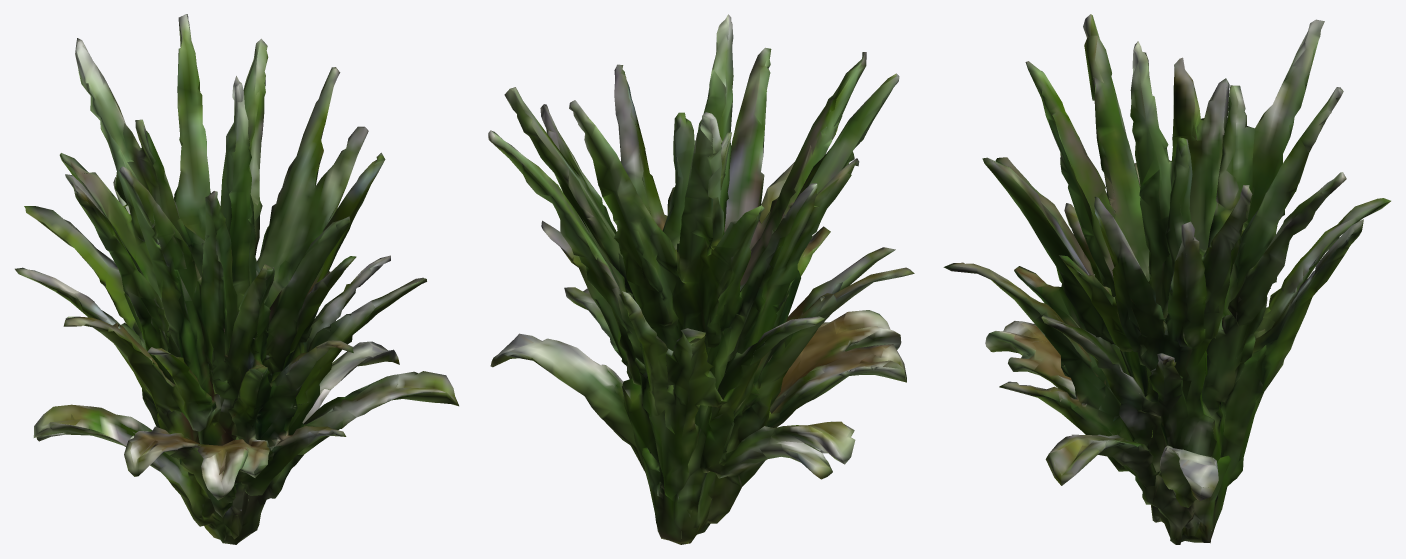
The model's file is F3D_13_Grass.fbx.
3 renders of one model, left to right at view 1: azimuth 30°, elevation 25°; view 2: azimuth 150°, elevation 25°; view 3: azimuth 270°, elevation 25°, orthographic. The views are drawn at different scales.
Parts seen in each view (by area): view 1: F3D_13_Grass; view 2: F3D_13_Grass; view 3: F3D_13_Grass.
Part boxes in pixels (<box>): F3D_13_Grass: <box>15,14,458,544</box>; F3D_13_Grass: <box>488,14,914,544</box>; F3D_13_Grass: <box>943,14,1390,544</box>.
Size of the model in its own units: 0.7946 by 1 by 0.8233.
